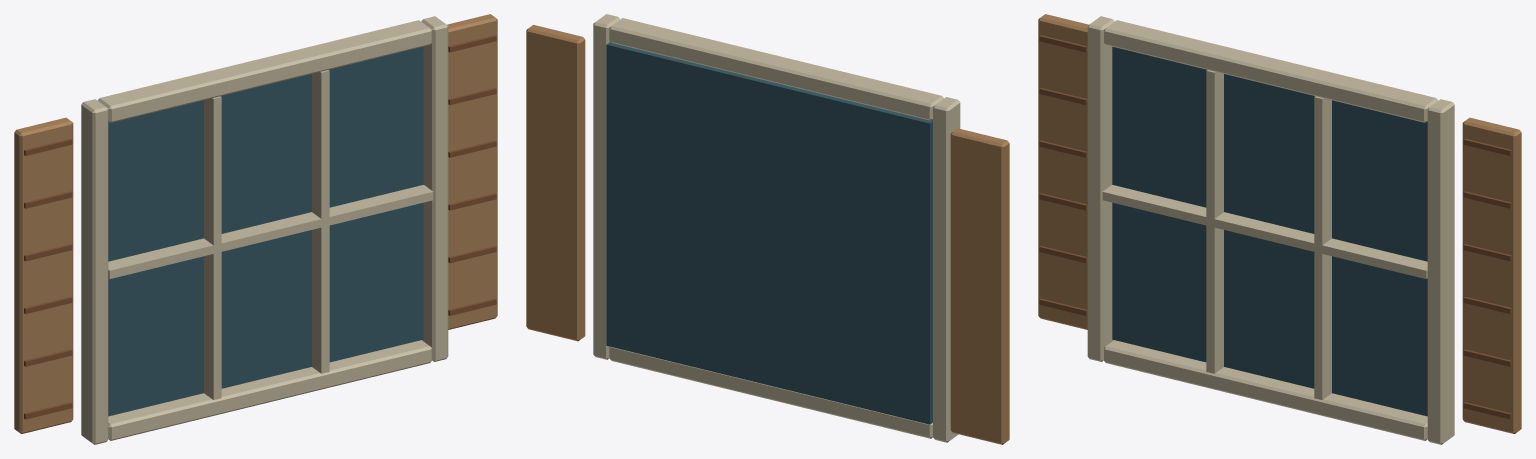
The model's file is window_02.glb.
3 renders of one model, left to right at view 1: azimuth 30°, elevation 25°; view 2: azimuth 150°, elevation 25°; view 3: azimuth 330°, elevation 25°, orthographic.
Parts seen in each view (by area): view 1: window_02; view 2: window_02; view 3: window_02.
Part boxes in pixels (x1,y1,x2,y2): window_02: (14, 14, 497, 444); window_02: (526, 14, 1009, 444); window_02: (1038, 14, 1521, 444).
Bounding box in the file's own units: 2.66 × 1.78 × 0.185.
